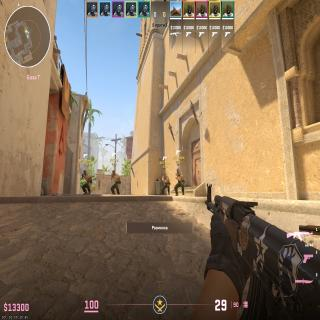T-Body: (174, 168, 185, 192), (82, 170, 92, 193), (110, 170, 120, 192), (162, 172, 170, 193)
T-Head: (177, 168, 180, 174), (112, 170, 115, 175), (84, 170, 86, 175), (164, 172, 166, 177)
